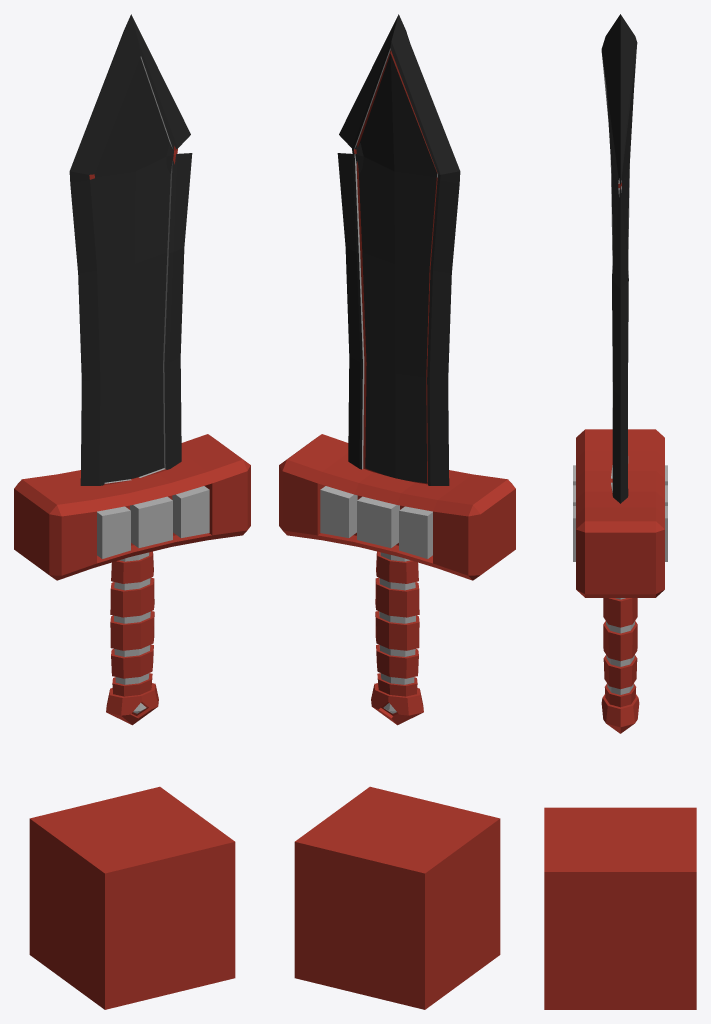
File: Espada.fbx
3 views of the same model, side by side, from view 1: azimuth 30°, elevation 25°; view 2: azimuth 150°, elevation 25°; view 3: azimuth 270°, elevation 25° (orthographic).
Parts seen in each view (by area): view 1: Cube.006; view 2: Cube.006; view 3: Cube.006.
Boxes of the visible parts, x1,y1,x2,y2 form: Cube.006: (14, 14, 250, 1009); Cube.006: (279, 14, 515, 1009); Cube.006: (544, 14, 696, 1009).
Bounding box in the file's own units: 47.44 × 214 × 30.67.
